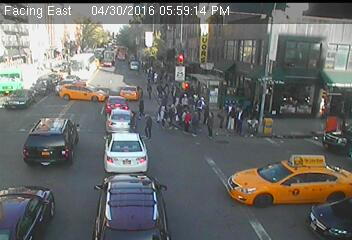neg: (260, 71, 277, 93), (316, 92, 332, 114), (142, 30, 157, 50), (102, 49, 114, 66), (4, 70, 12, 80)
pos: (202, 112, 220, 137), (138, 113, 156, 137), (232, 107, 250, 131), (221, 105, 239, 129), (179, 110, 196, 132), (189, 111, 204, 131), (143, 79, 157, 98), (198, 95, 209, 110), (136, 98, 147, 112), (180, 92, 190, 105)
